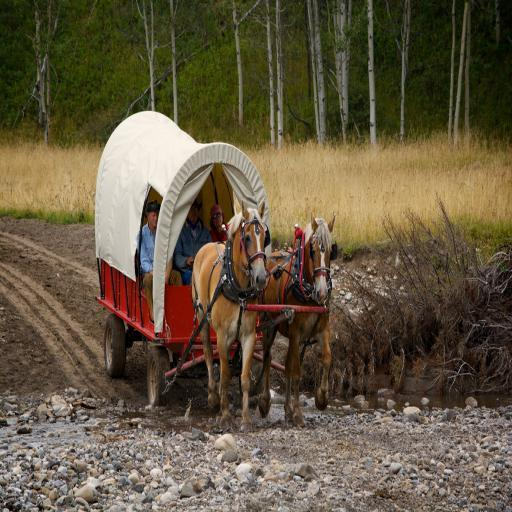horse: (191, 199, 268, 431), (254, 214, 336, 430)
